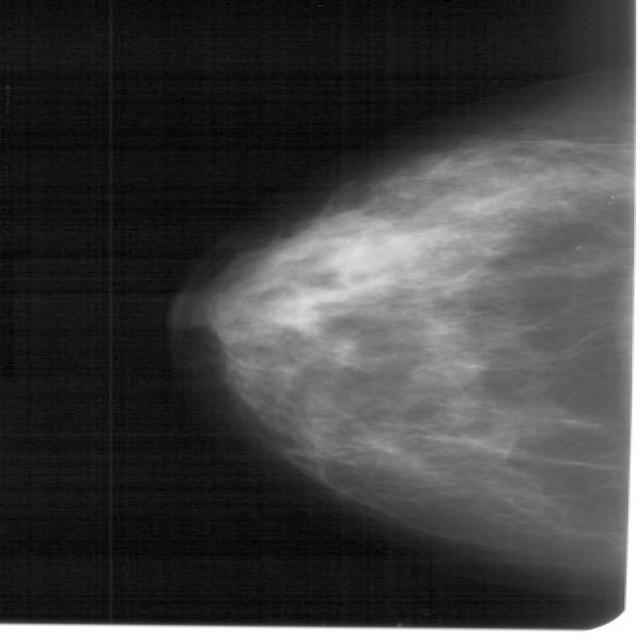tumour: (322, 243, 392, 274)
